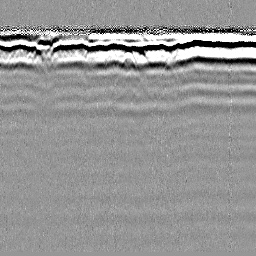cavity: (118, 49, 139, 71)
